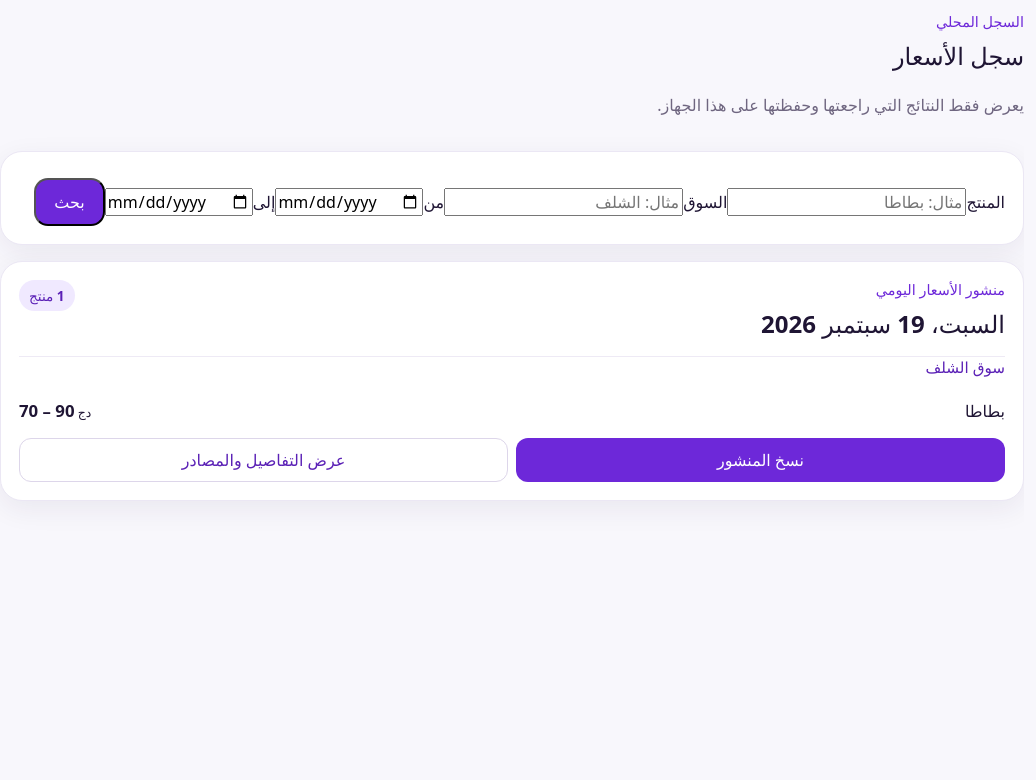
it: HistoryPage daily posts › keeps the daily post compact by default and reveals source details on demand
The width and height of the screenshot is (1036, 780).
Expected: the text "بطاطا" is shown, x1=965 y1=400 x2=1005 y2=422
Expected: the text "70 – 90" is shown, x1=19 y1=399 x2=74 y2=422
Click the button "عرض التفاصيل والمصادر" at (264, 460), box x1=19 y1=438 x2=508 y2=482
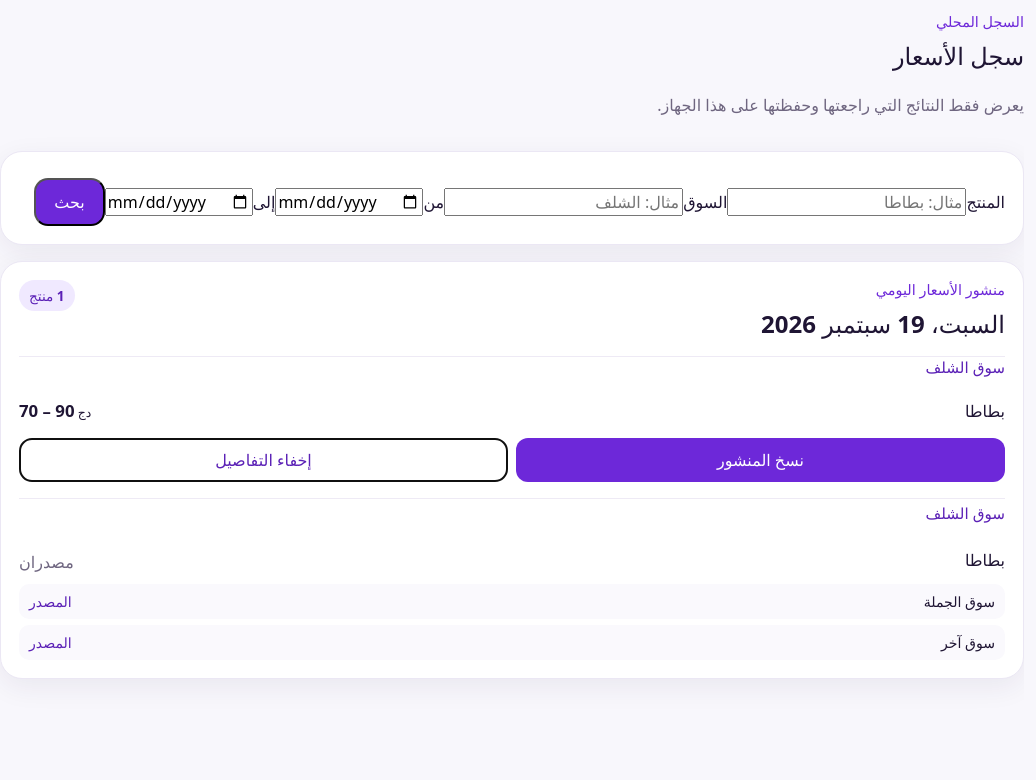
Expected: the text "مصدران" is shown, x1=19 y1=549 x2=74 y2=576
Expected: the text "سوق الجملة" is shown, x1=924 y1=592 x2=995 y2=611
Expected: the text "سوق آخر" is shown, x1=941 y1=633 x2=995 y2=652
